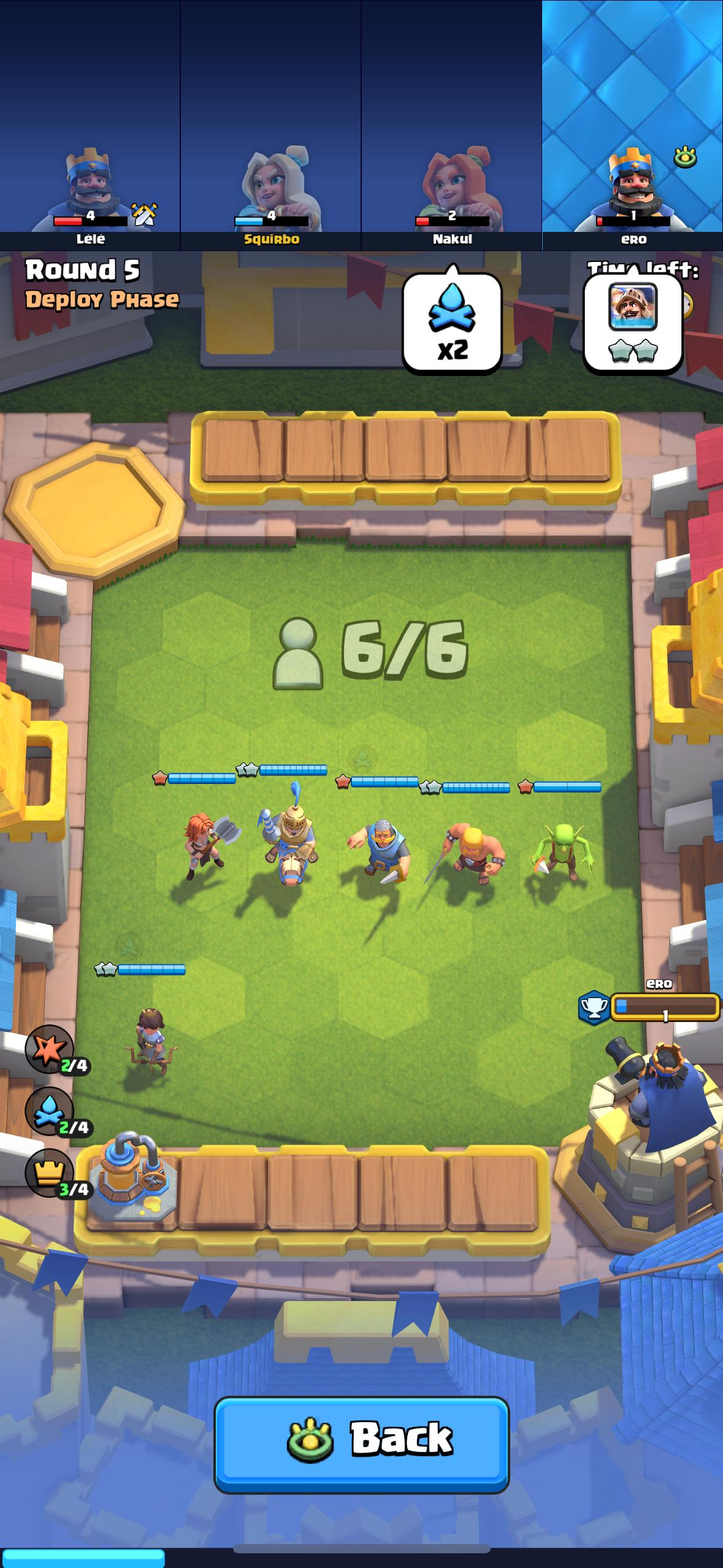barbarian: (434, 814, 501, 883)
collector: (86, 1132, 180, 1223)
goblin: (535, 814, 593, 885)
knight: (345, 812, 414, 885)
prince: (253, 782, 321, 894)
princess: (126, 1008, 178, 1074)
valkyrie: (180, 804, 235, 880)
